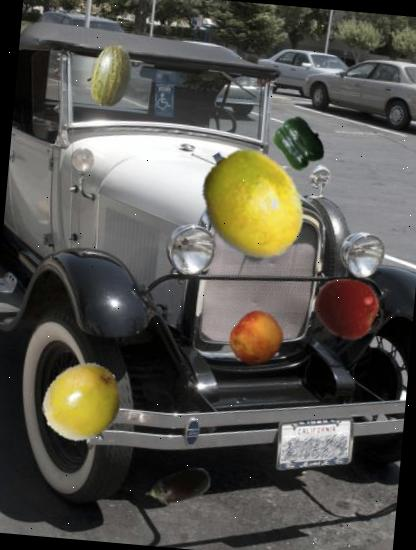Eggplant: (142, 451, 216, 526)
Maracuja: (186, 138, 317, 268), (40, 360, 130, 450)
Melon: (78, 42, 146, 111)
Peach: (226, 308, 288, 370)
Pepper: (268, 114, 328, 174)
Tomato: (311, 272, 381, 342)
